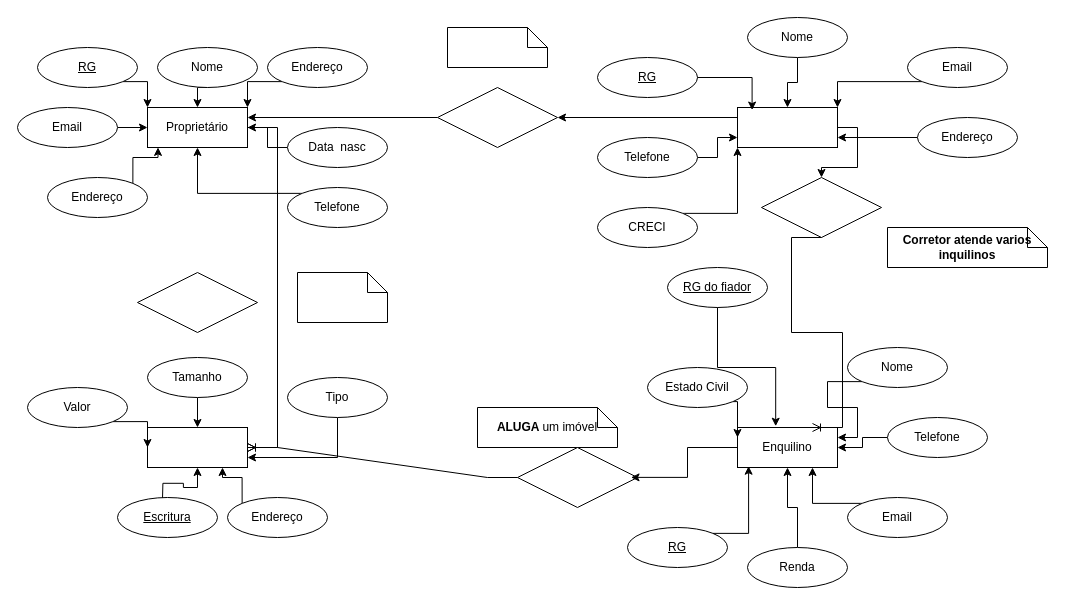
This 1065x605 diagram has some shape labels left out. The shapes that lost their labels are listed below. From the top down, each one's centre as x and y in pixels, then its label:
At (497,47): "Faz contato".
At (497,117): "Contata".
At (787,127): "Corretor".
At (821,207): "Atender".
At (197,302): "Possui".
At (342,297): "Um proprietário possui imóveis".
At (197,447): "Imóveis".
At (577,477): "Aluga".
